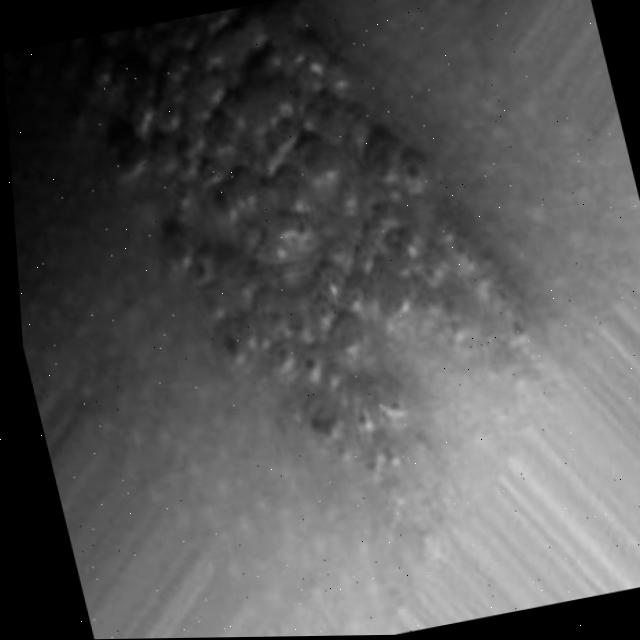Shingles: (51, 0, 574, 592)
